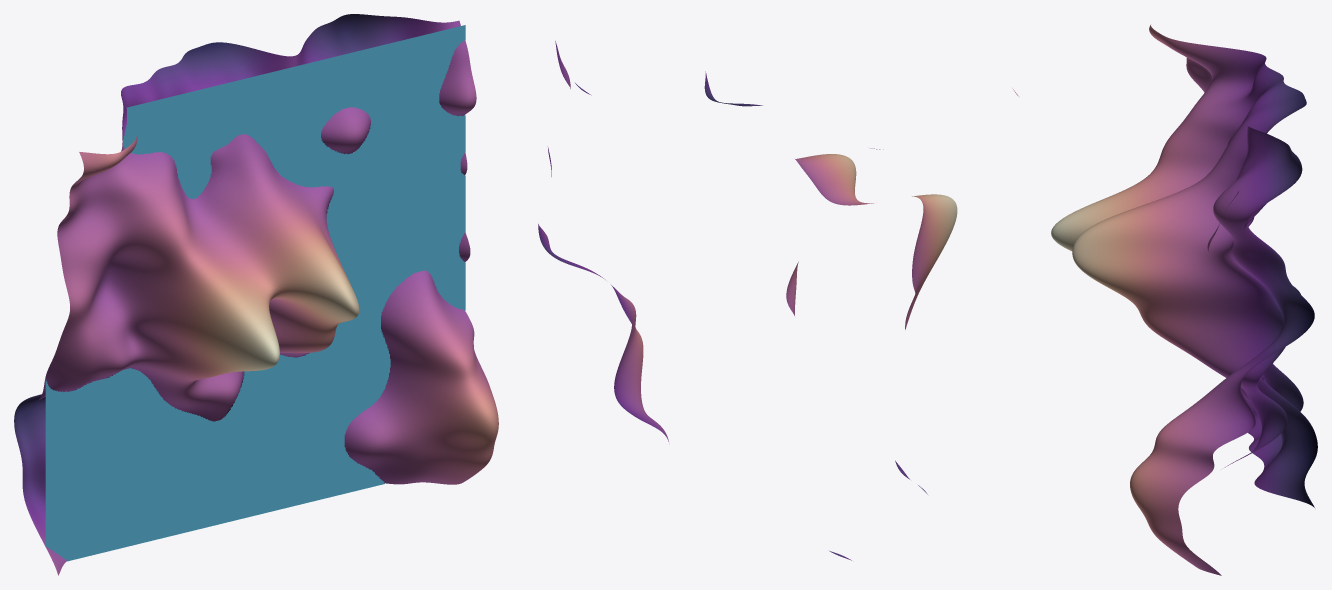
File: volcanic_caldera_terrain.glb
3 views of the same model, side by side, from view 1: azimuth 30°, elevation 25°; view 2: azimuth 150°, elevation 25°; view 3: azimuth 270°, elevation 25° (orthographic). The views are drawn at different scales.
Parts seen in each view (by area): view 1: paceval_height_field, separate_constant_height_water_geometry; view 2: paceval_height_field; view 3: paceval_height_field.
Part boxes in pixels (bbox=[...]): paceval_height_field: bbox=[14, 14, 498, 575]; separate_constant_height_water_geometry: bbox=[45, 25, 465, 561]; paceval_height_field: bbox=[538, 41, 1018, 560]; paceval_height_field: bbox=[1051, 25, 1317, 575].
Bounding box in the file's own units: 2 × 2 × 1.26.
